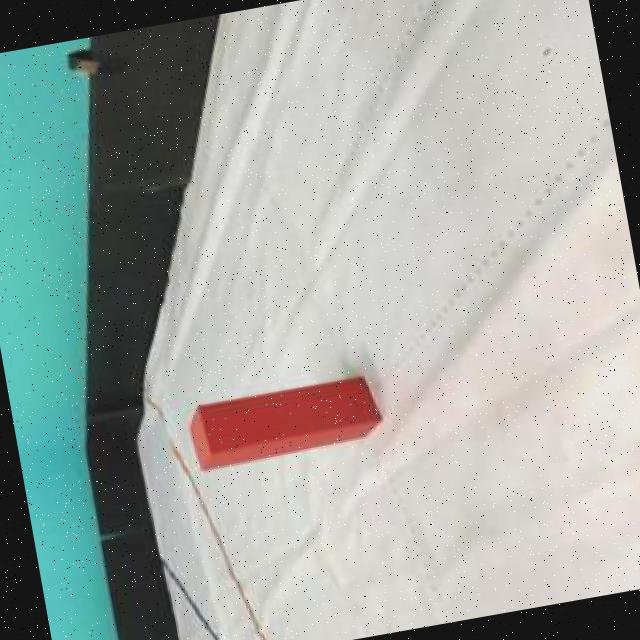redbox: (180, 372, 386, 473)
